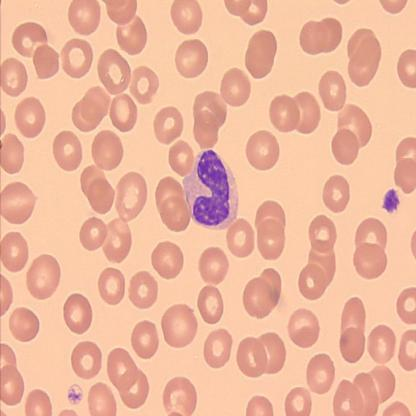Band Neutrophil: (180, 146, 242, 233)
